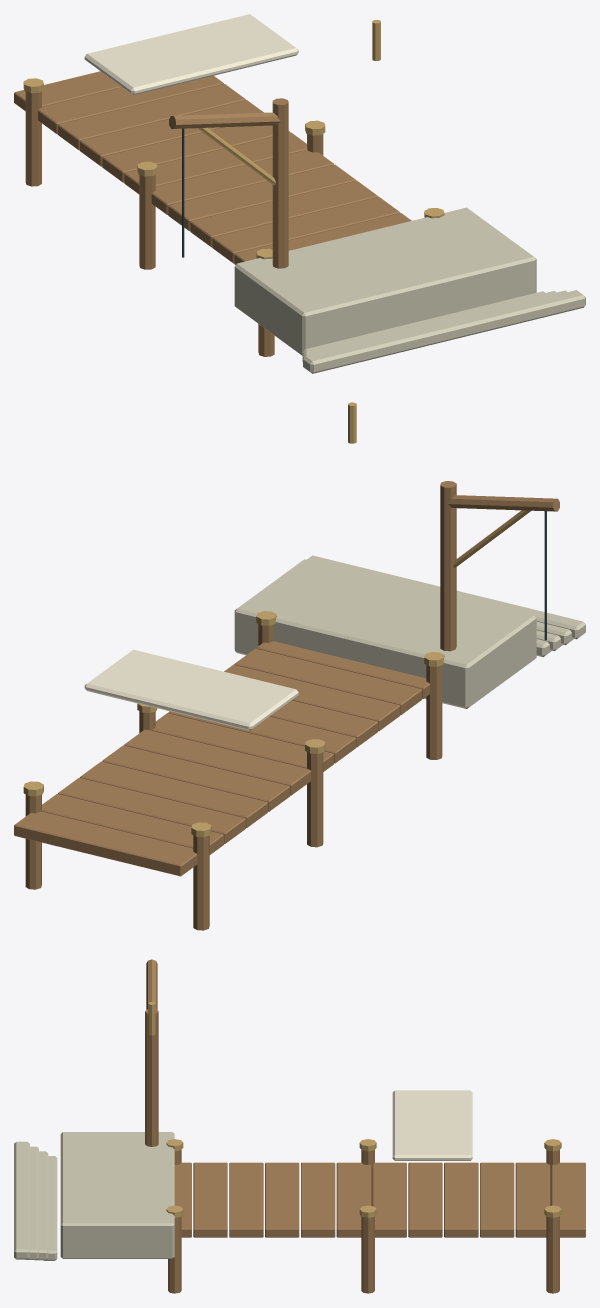
Rendered from level_28.glb.
The picture shows the model from 3 angles, top to bottom: view 1: azimuth 30°, elevation 25°; view 2: azimuth 150°, elevation 25°; view 3: azimuth 270°, elevation 25°; orthographic projection. The views are drawn at different scales.
Parts seen in each view (by area): view 1: dock — level 28; view 2: dock — level 28; view 3: dock — level 28.
Boxes of the visible parts, <box> form: dock — level 28: <box>14,14,585,373</box>; dock — level 28: <box>14,402,585,930</box>; dock — level 28: <box>14,959,585,1293</box>.
Size of the model in its own units: 5.45 by 5.01 by 10.03.
